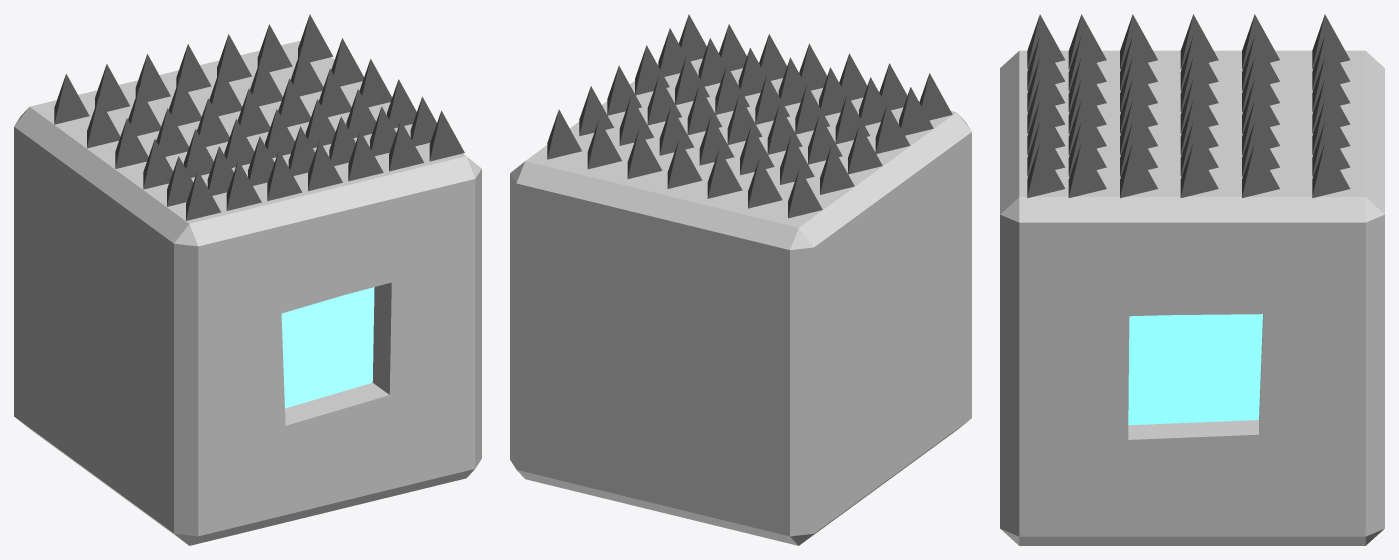
File: KupKareTuzak.fbx
3 renders of one model, left to right at view 1: azimuth 30°, elevation 25°; view 2: azimuth 150°, elevation 25°; view 3: azimuth 270°, elevation 25°, orthographic. The views are drawn at different scales.
Visible parts, largest first — view 1: Cube.008, Cone.036, Cone.039, Cone.040, Cone.041, Cone.038, Cone.037; view 2: Cube.008, Cone.041, Cone.040, Cone.039, Cone.038, Cone.037, Cone.036; view 3: Cube.008, Cone.037, Cone.039, Cone.036, Cone.041, Cone.038, Cone.040.
Boxes of the visible parts, box(x1,y1,x2,y2) form: Cube.008: box(14, 40, 481, 545); Cone.036: box(186, 110, 464, 220); Cone.039: box(115, 59, 391, 168); Cone.040: box(87, 38, 363, 148); Cone.041: box(54, 14, 333, 124); Cone.038: box(143, 79, 416, 189); Cone.037: box(167, 96, 436, 206); Cube.008: box(510, 58, 971, 545); Cone.041: box(547, 109, 822, 218); Cone.040: box(579, 86, 854, 194); Cone.039: box(607, 65, 882, 174); Cone.038: box(635, 45, 910, 153); Cone.037: box(658, 28, 933, 135); Cone.036: box(679, 14, 952, 120); Cube.008: box(1000, 50, 1384, 545); Cone.037: box(1068, 14, 1106, 197); Cone.039: box(1180, 14, 1218, 197); Cone.036: box(1027, 14, 1065, 198); Cone.041: box(1312, 14, 1350, 198); Cone.038: box(1120, 14, 1157, 198); Cone.040: box(1242, 14, 1279, 198).
Size of the model in its own units: 119 by 135 by 119.
